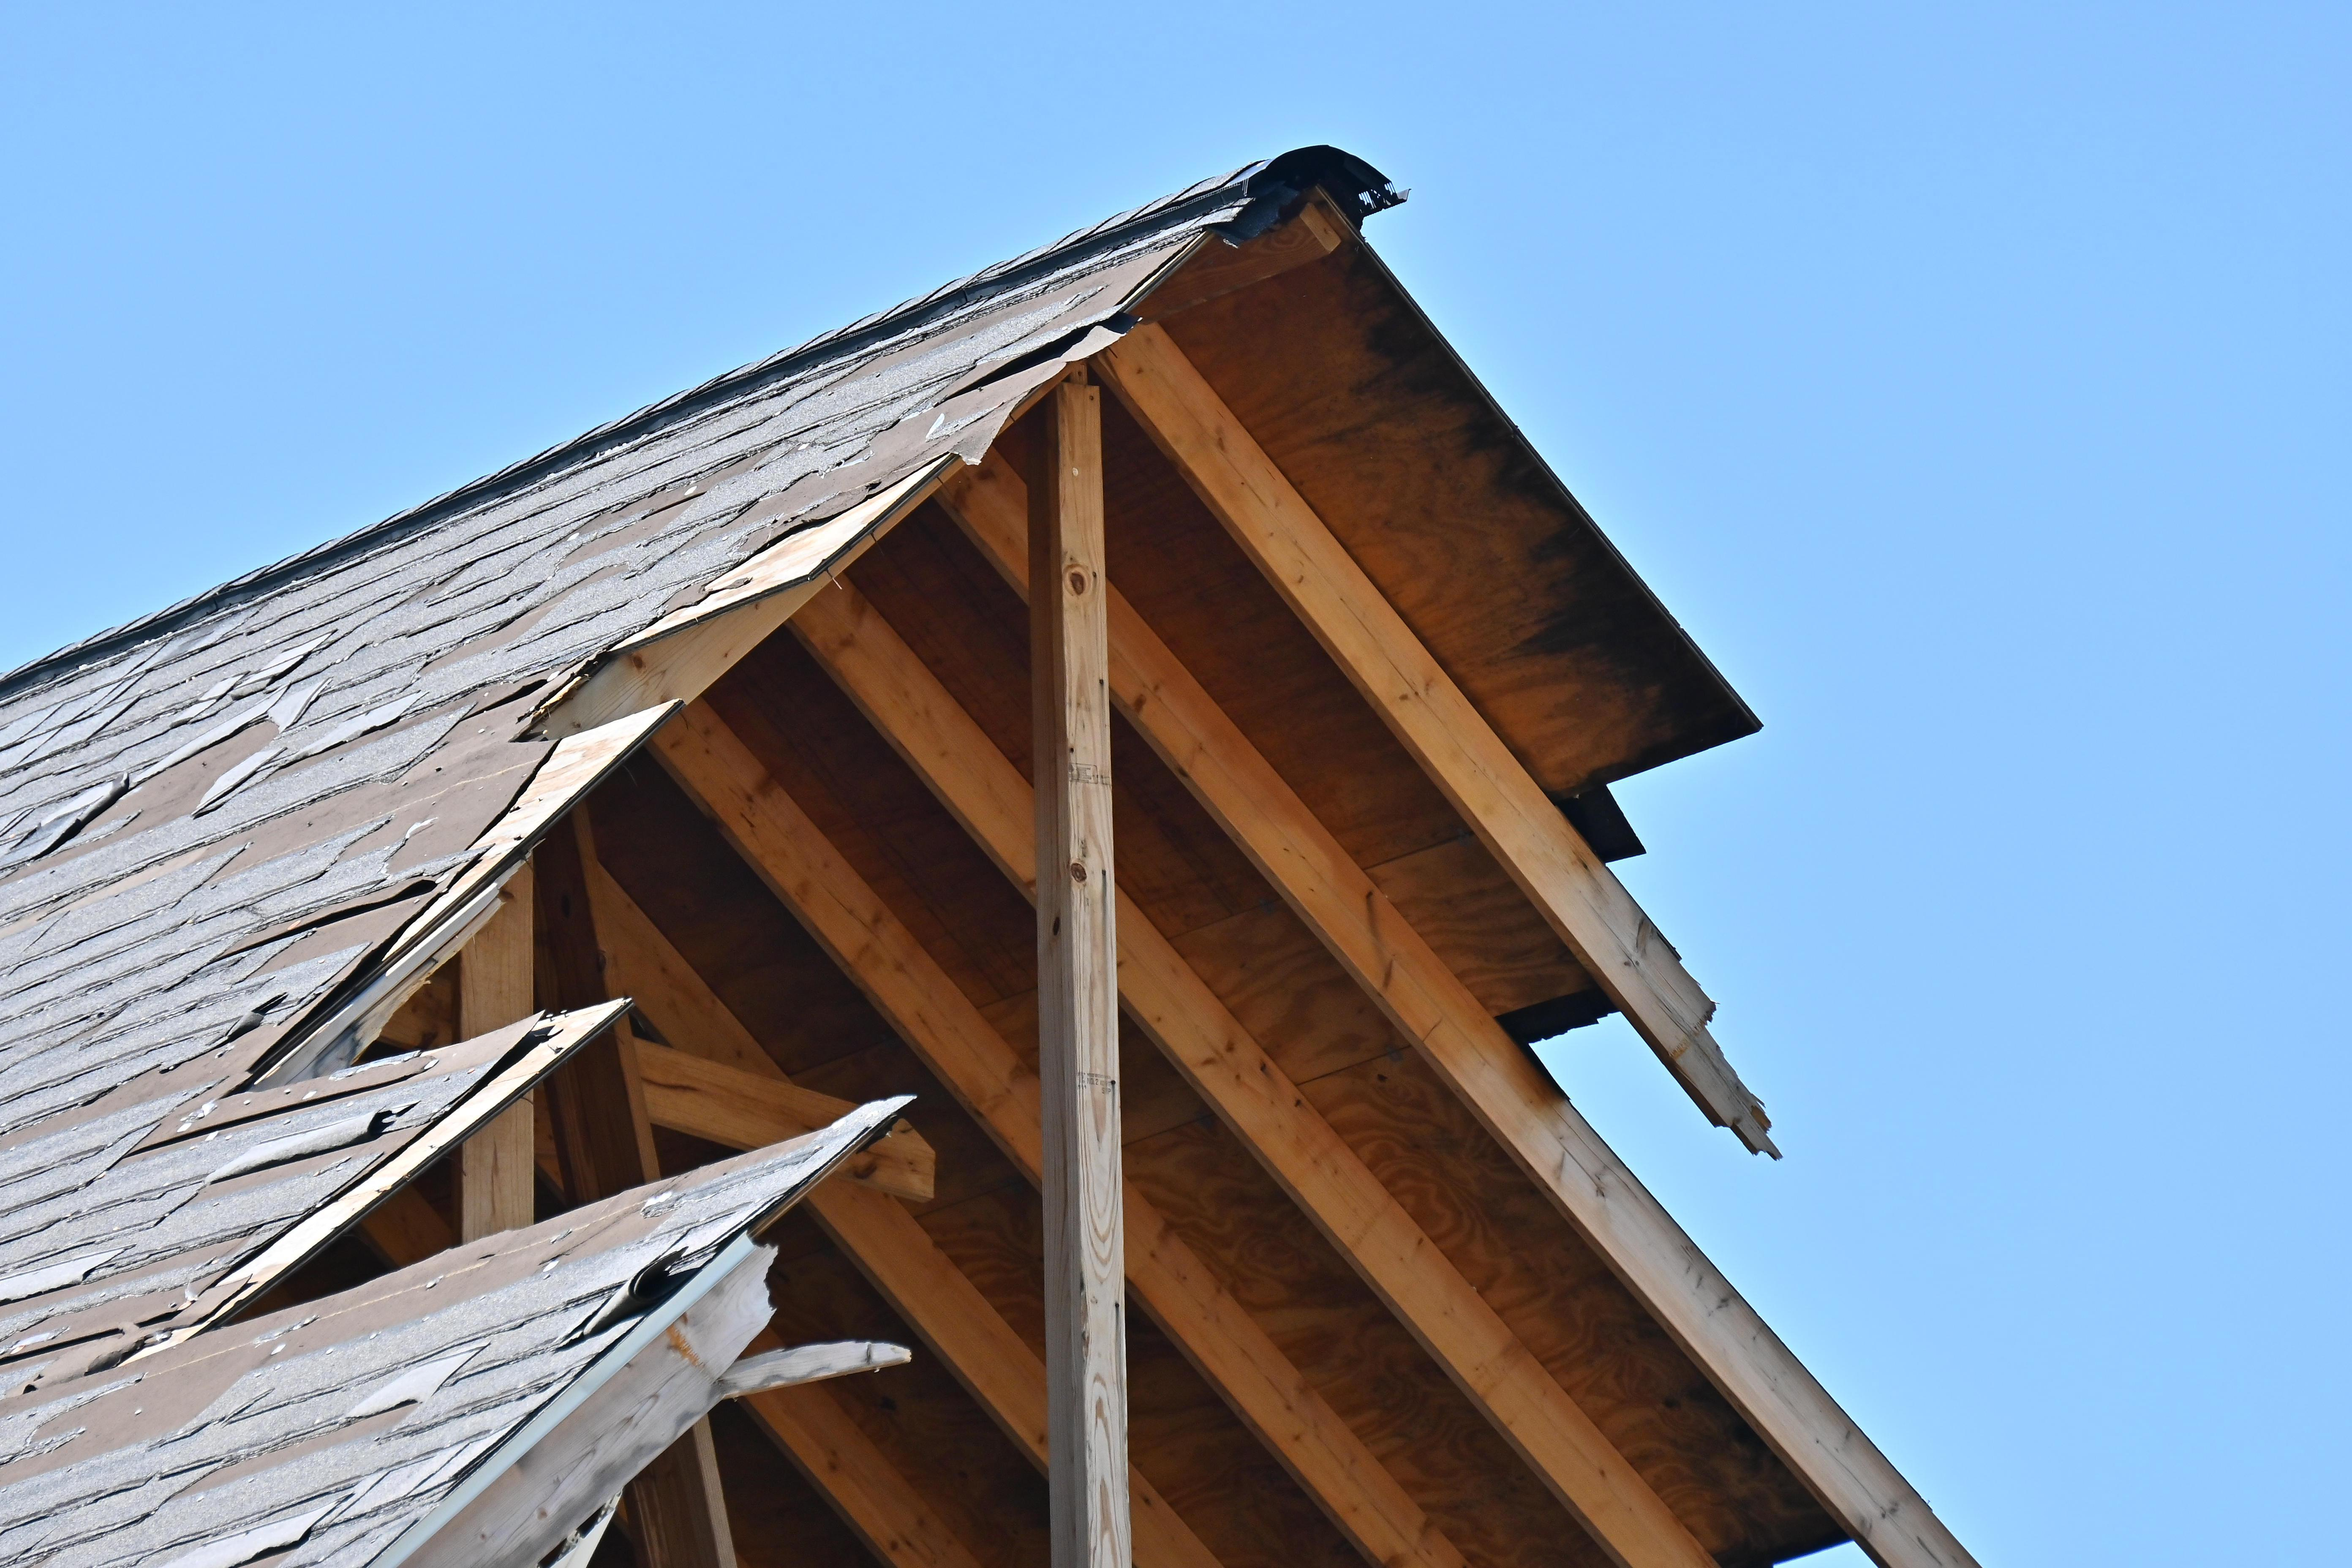major: (11, 173, 2068, 1568)
